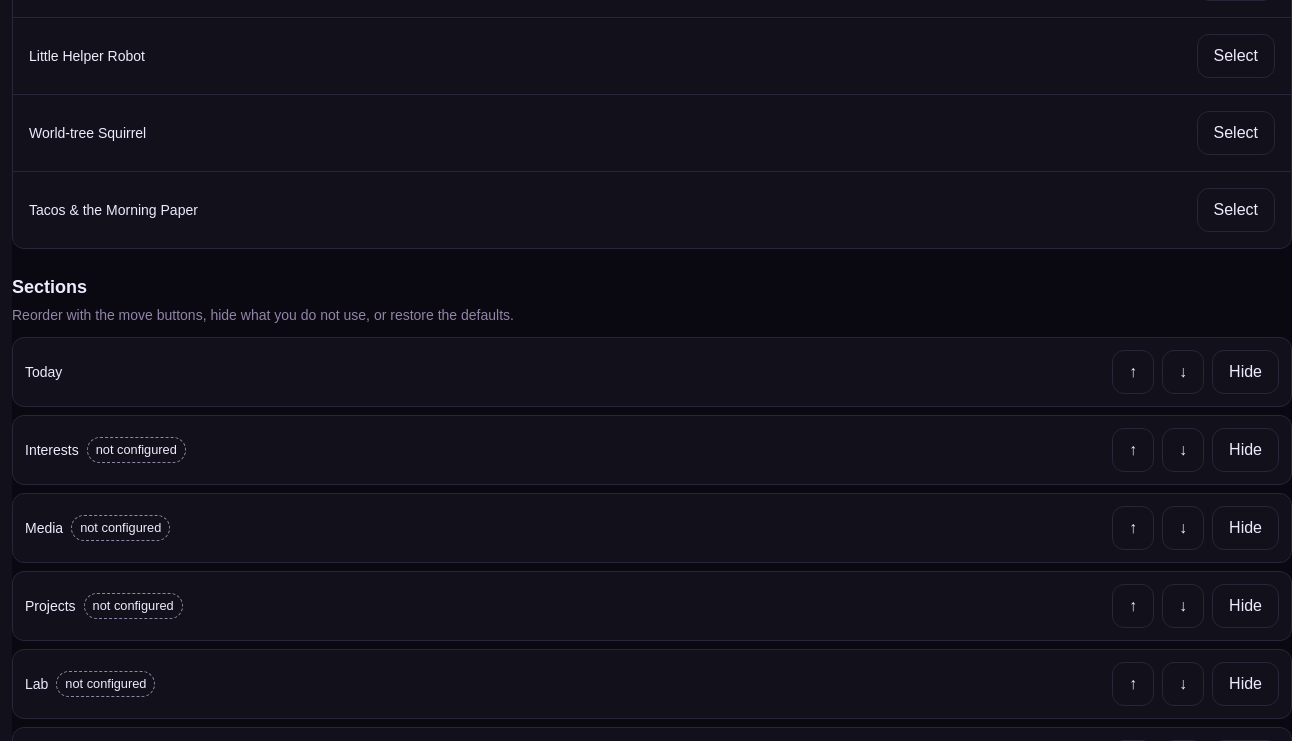
it: Settings: sections panel (GET/PUT /api/sections) › a server 400 on PUT /api/sections (pinned hidden) is surfaced verbatim
(page scrolled)
Click the button with test id "hide-today" at (1246, 372), box [1212, 350, 1279, 394]
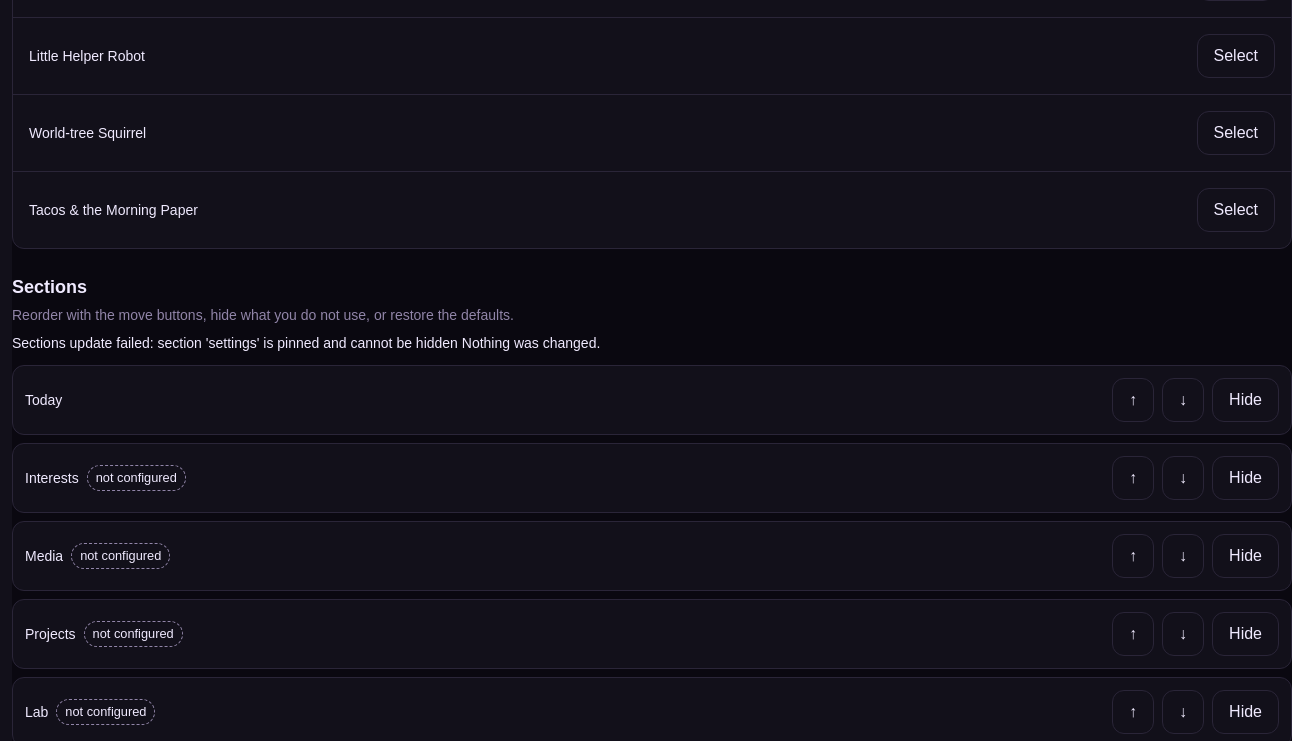
Result: the message with test id "sections-error" shows "section 'settings' is pinned and cannot be hidden" at [158, 335, 458, 351]
